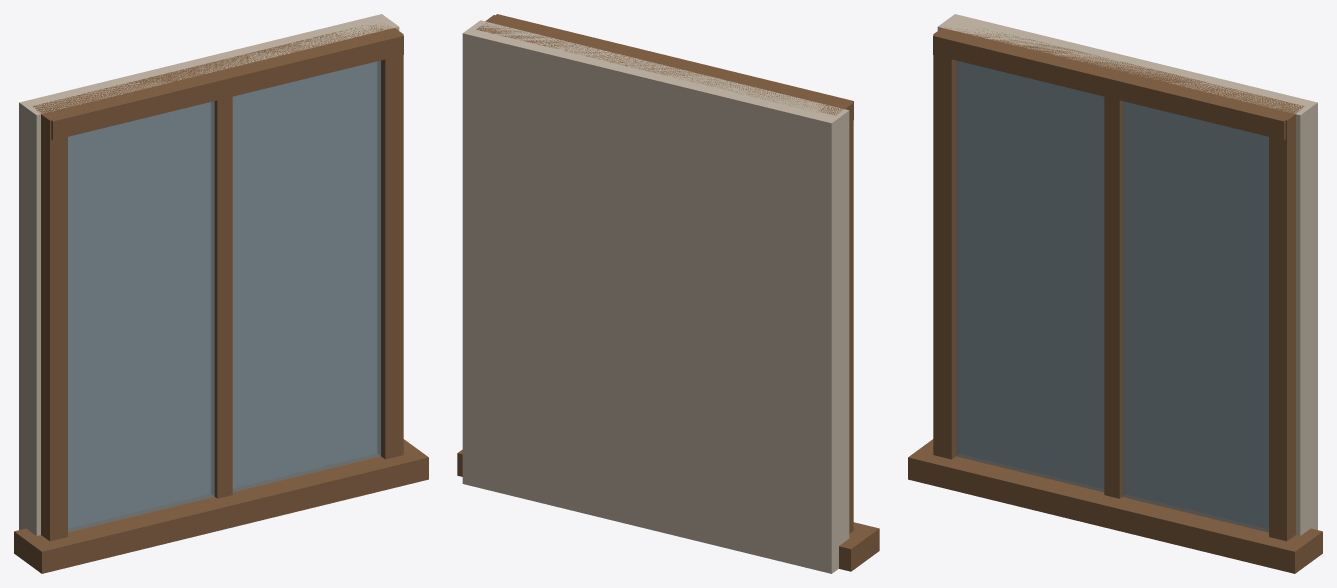
Rendered from SM_P1_House_Window_Grid_A.obj.
3 views of the same model, side by side, from view 1: azimuth 30°, elevation 25°; view 2: azimuth 150°, elevation 25°; view 3: azimuth 330°, elevation 25° (orthographic).
Parts seen in each view (by area): view 1: glass, reveal_box, sill, head, jamb_l, jamb_r, mullion; view 2: reveal_box, head, jamb_l, sill; view 3: glass, sill, reveal_box, head, jamb_r, jamb_l, mullion.
Boxes of the visible parts, <box> form: glass: <box>68,60,380,532</box>; reveal_box: <box>19,14,399,535</box>; sill: <box>14,439,428,573</box>; head: <box>33,25,403,140</box>; jamb_l: <box>33,103,67,541</box>; jamb_r: <box>369,23,403,459</box>; mullion: <box>211,96,232,498</box>; reveal_box: <box>462,20,849,573</box>; head: <box>476,14,853,119</box>; jamb_l: <box>819,98,853,533</box>; sill: <box>457,449,879,571</box>; glass: <box>956,60,1268,532</box>; sill: <box>908,439,1322,573</box>; reveal_box: <box>937,14,1317,535</box>; head: <box>933,28,1304,140</box>; jamb_r: <box>1269,104,1301,541</box>; jamb_l: <box>933,28,959,459</box>; mullion: <box>1104,96,1125,498</box>.
Bounding box in the file's own units: 1.28 × 1.4 × 0.2.
